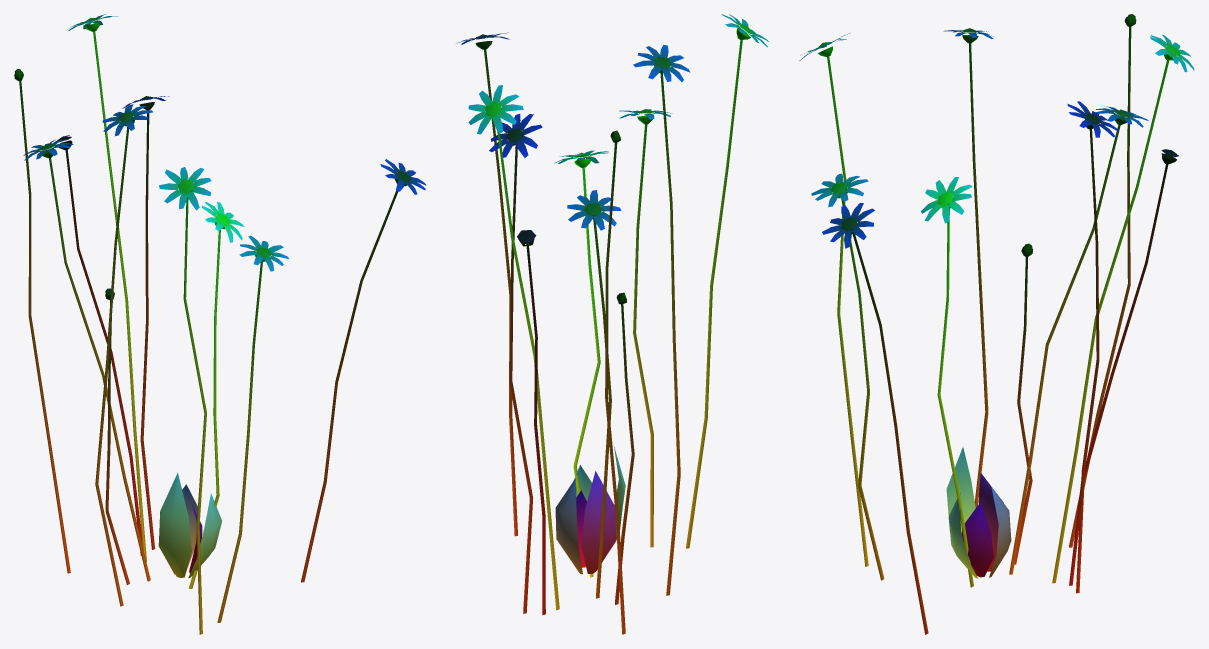
The model's file is SM_Flower_Daisy_B_LOD2.fbx.
3 renders of one model, left to right at view 1: azimuth 30°, elevation 25°; view 2: azimuth 150°, elevation 25°; view 3: azimuth 270°, elevation 25°, orthographic. The views are drawn at different scales.
Visible parts, largest first — view 1: SM_Flower_Daisy_B_LOD2; view 2: SM_Flower_Daisy_B_LOD2; view 3: SM_Flower_Daisy_B_LOD2.
Boxes of the visible parts, left/top/right/bottom form: SM_Flower_Daisy_B_LOD2: left=14, top=14, right=426, bottom=634; SM_Flower_Daisy_B_LOD2: left=456, top=14, right=768, bottom=634; SM_Flower_Daisy_B_LOD2: left=799, top=14, right=1194, bottom=634.
Size of the model in its own units: 0.3219 by 0.5672 by 0.3709.
